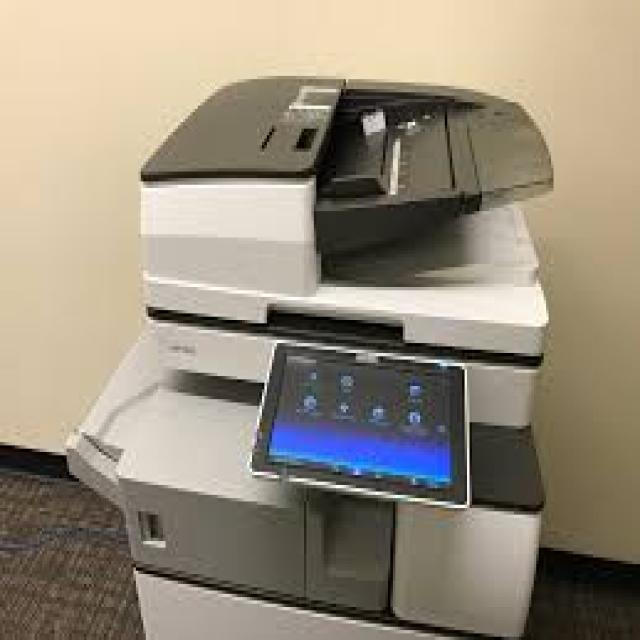printer: (64, 73, 554, 636)
